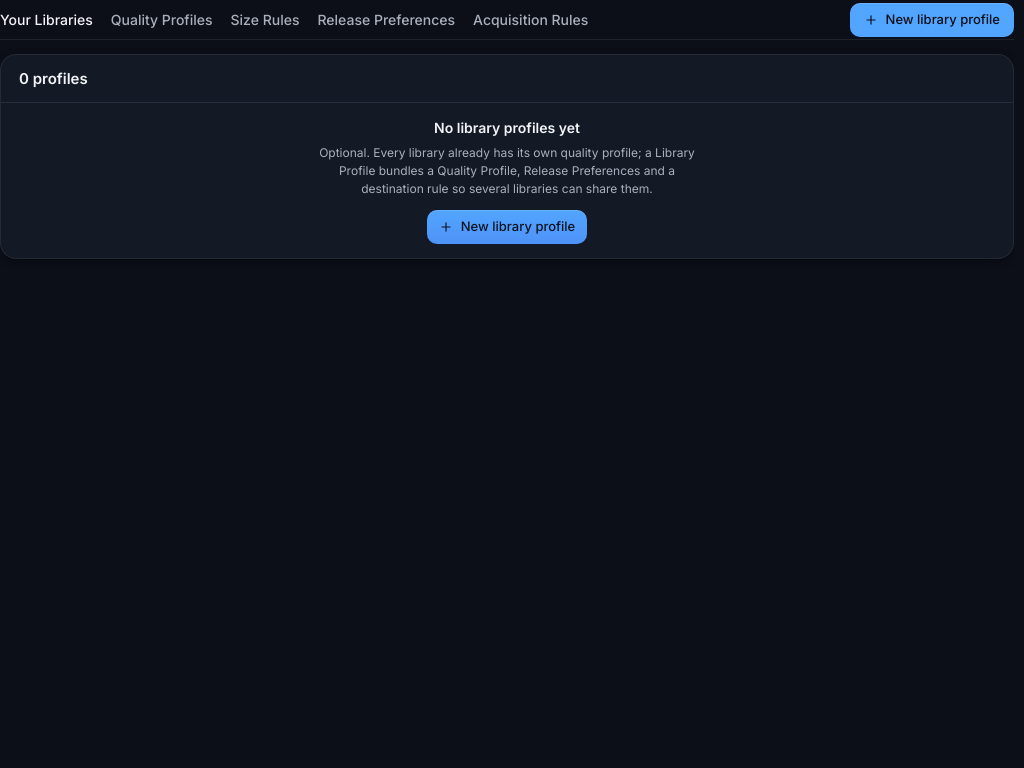
a new library profile › choosing TV changes what can be picked and clears the quality choice and the libraries
The width and height of the screenshot is (1024, 768).
Click the button "New library profile" in the row of "Acquisition Rules" at point(932, 20), box [850, 2, 1014, 36]
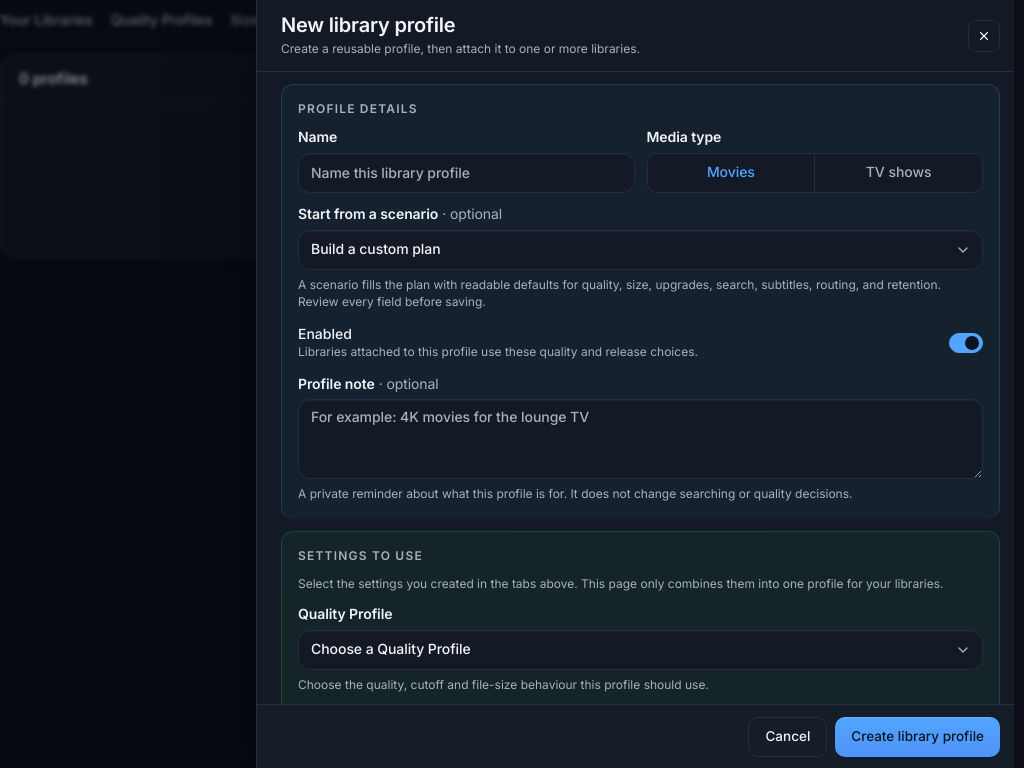
Select "UHD" in the dropdown "Choose a Quality Profile" at point(640, 650), box [298, 630, 983, 670]
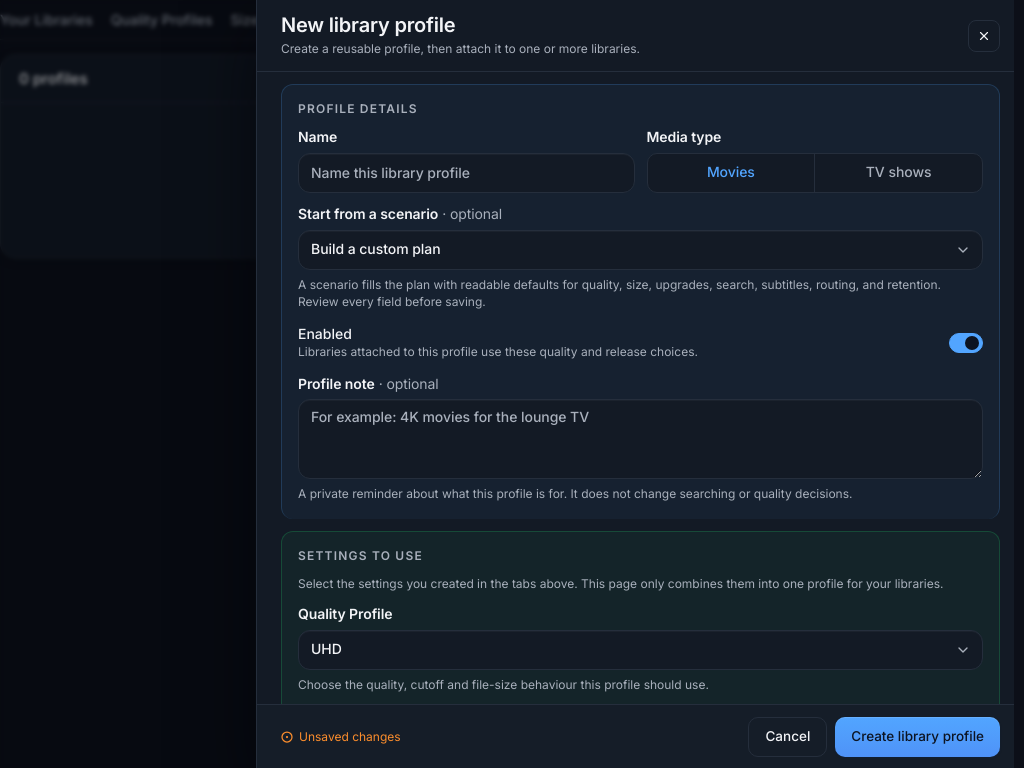
Click the radio button labelled "TV shows" at point(899, 173), box [815, 154, 982, 192]
(page scrolled)
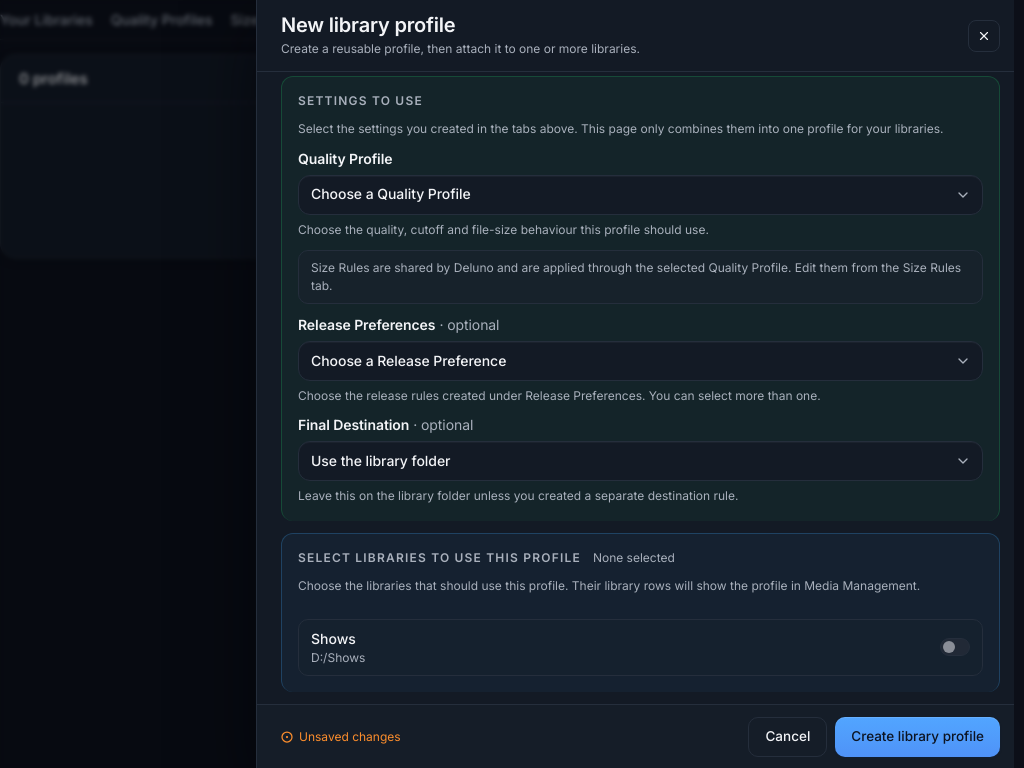
Result: the text "Shows" is shown at [311, 630, 356, 647]
